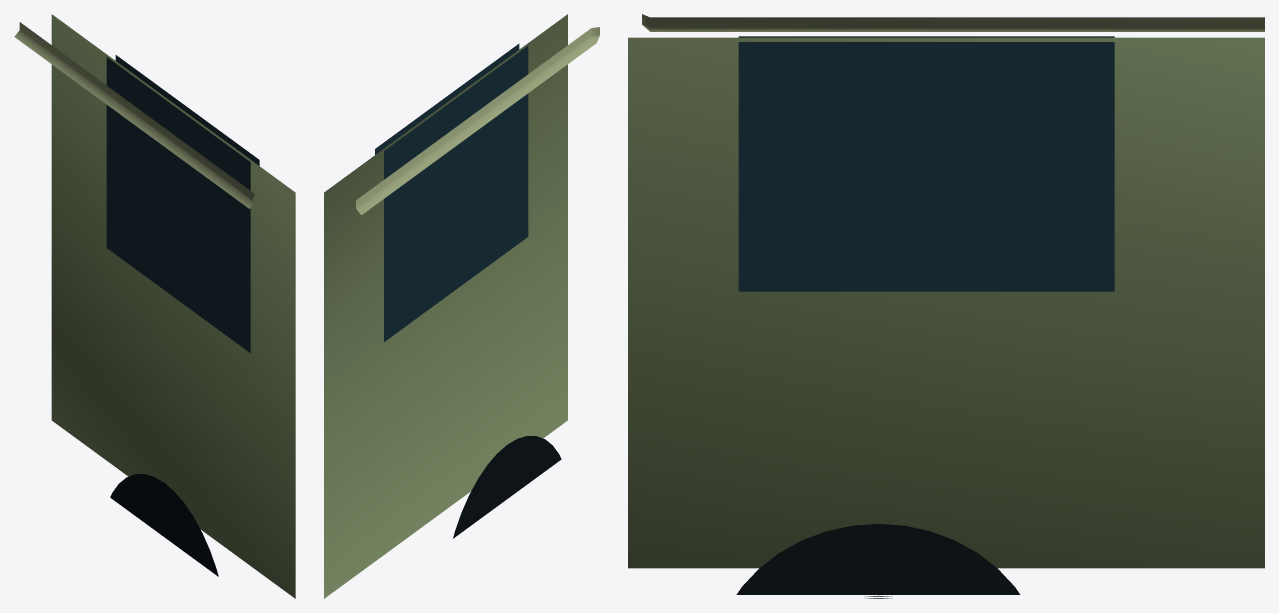
File: van-right.glb
3 renders of one model, left to right at view 1: azimuth 30°, elevation 25°; view 2: azimuth 150°, elevation 25°; view 3: azimuth 270°, elevation 25°, orthographic. The views are drawn at different scales.
Bounding box in the file's own units: 0.2668 × 1.21 × 1.32.
1 material, 1 textured.
